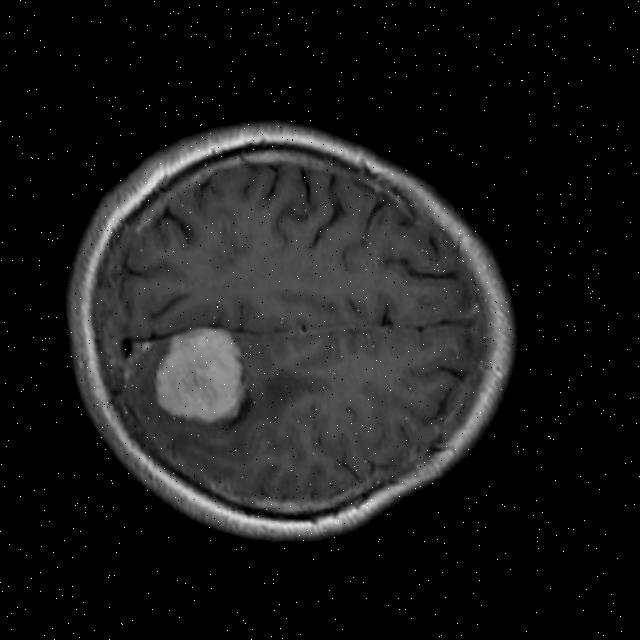Meningioma: (143, 317, 253, 434)
